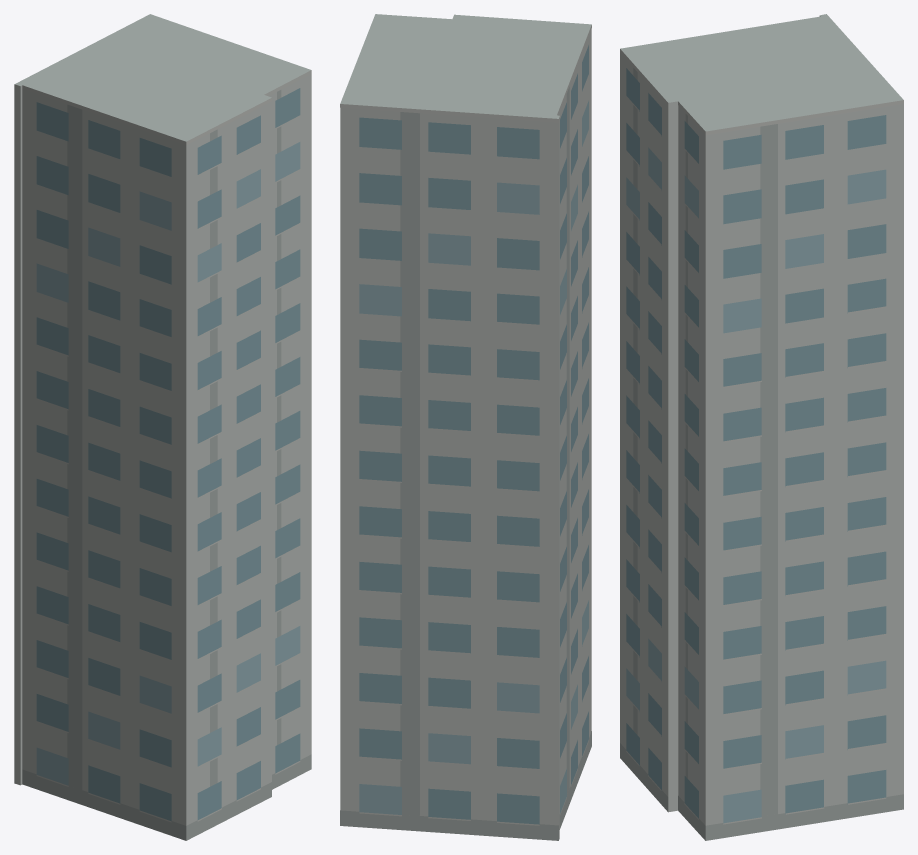
File: survey-upis-32837791.glb
3 renders of one model, left to right at view 1: azimuth 30°, elevation 25°; view 2: azimuth 150°, elevation 25°; view 3: azimuth 270°, elevation 25°, orthographic. The views are drawn at different scales.
Parts seen in each view (by area): view 1: survey-upis-32837791.tmp; view 2: survey-upis-32837791.tmp; view 3: survey-upis-32837791.tmp.
Part boxes in pixels (x1,y1,x2,y2): survey-upis-32837791.tmp: [14, 14, 311, 840]; survey-upis-32837791.tmp: [340, 14, 591, 840]; survey-upis-32837791.tmp: [620, 14, 903, 840].
Bounding box in the file's own units: 16.14 × 45.4 × 16.47.
